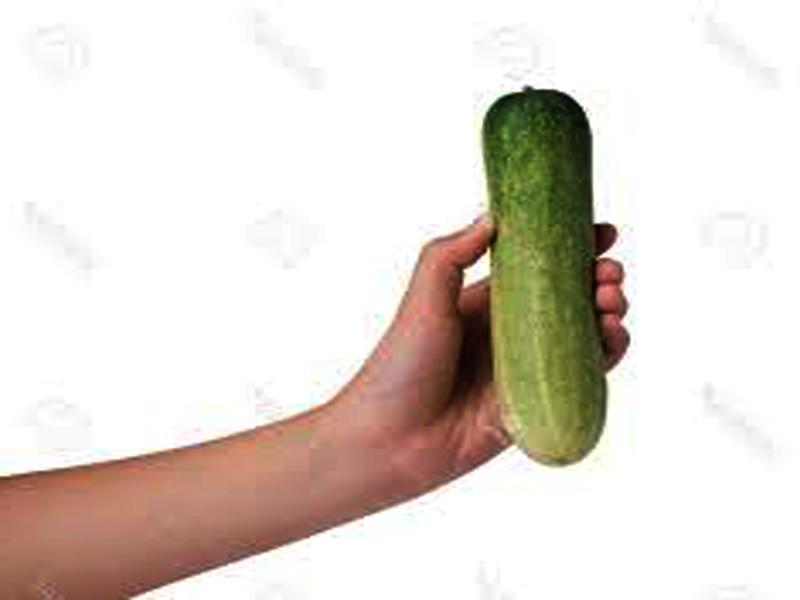Cucumber: (476, 84, 602, 468)
